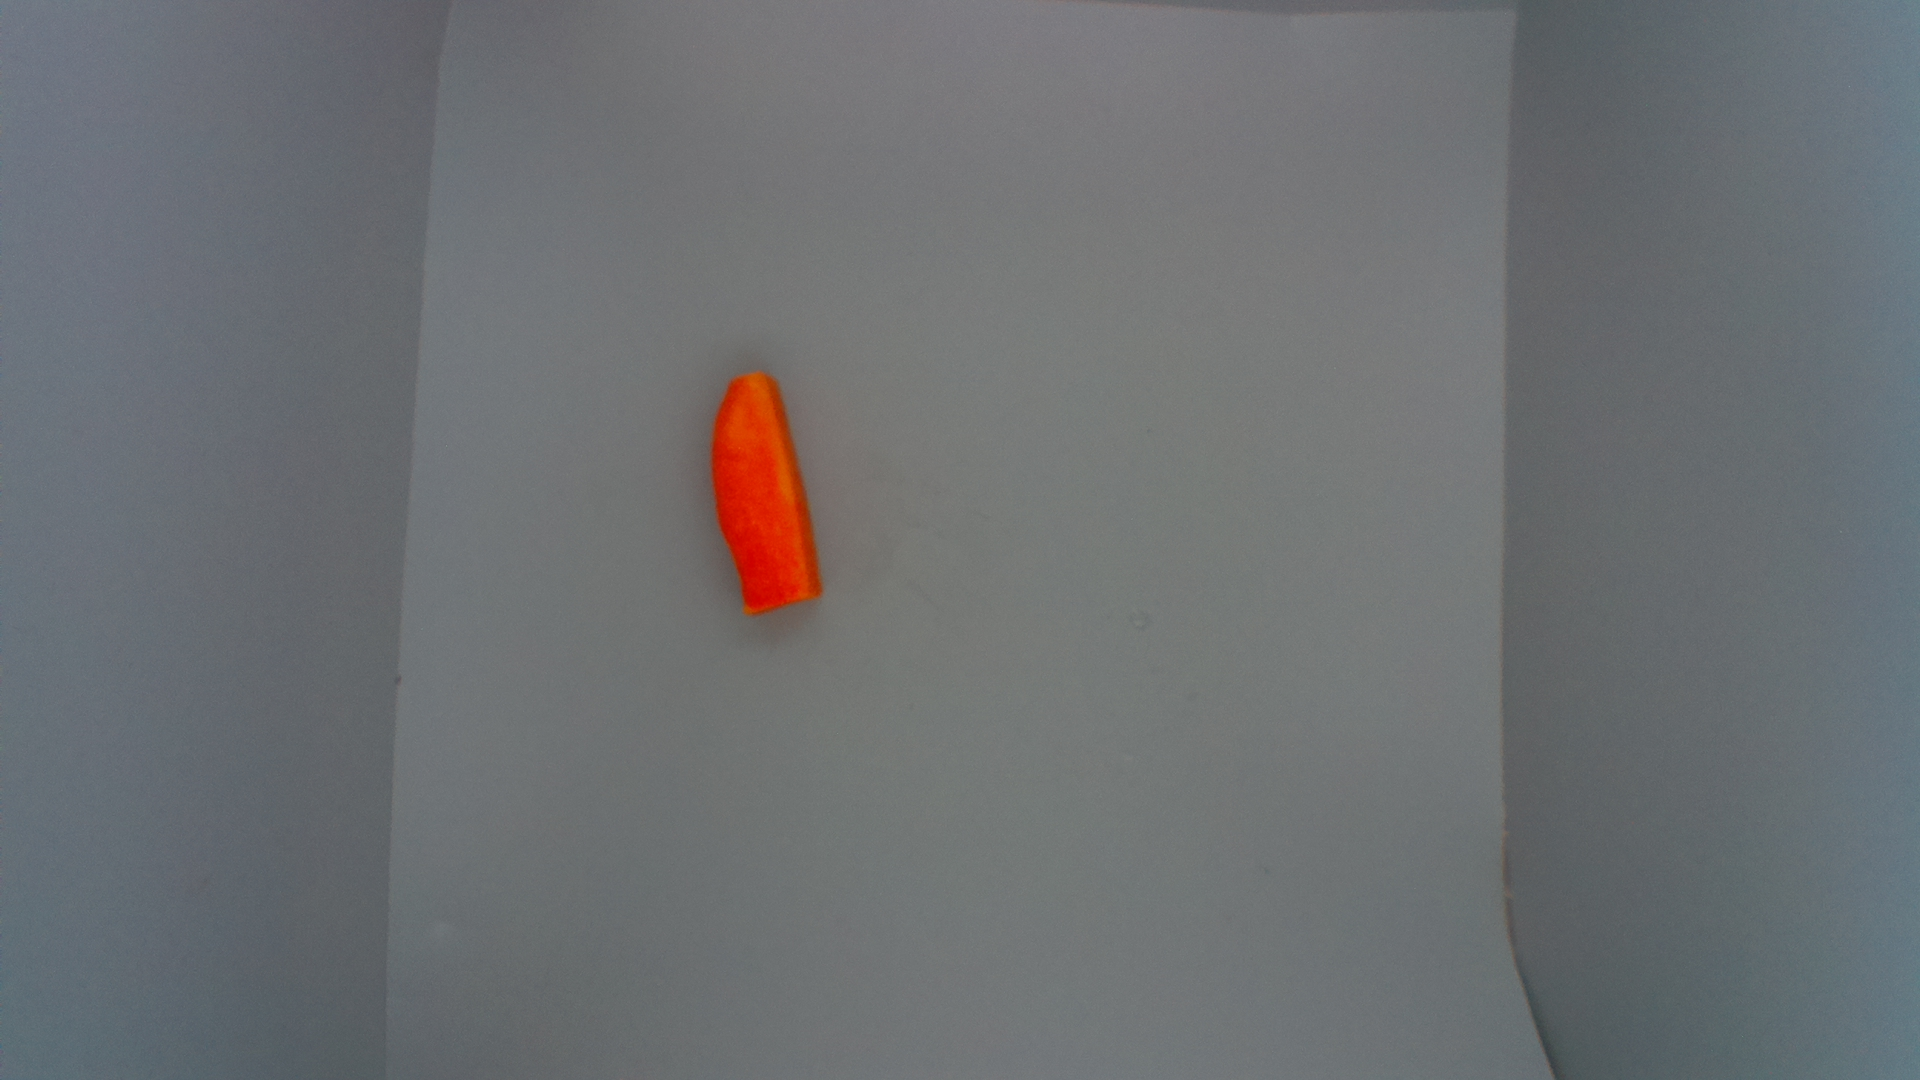carrot: (712, 369, 825, 617)
